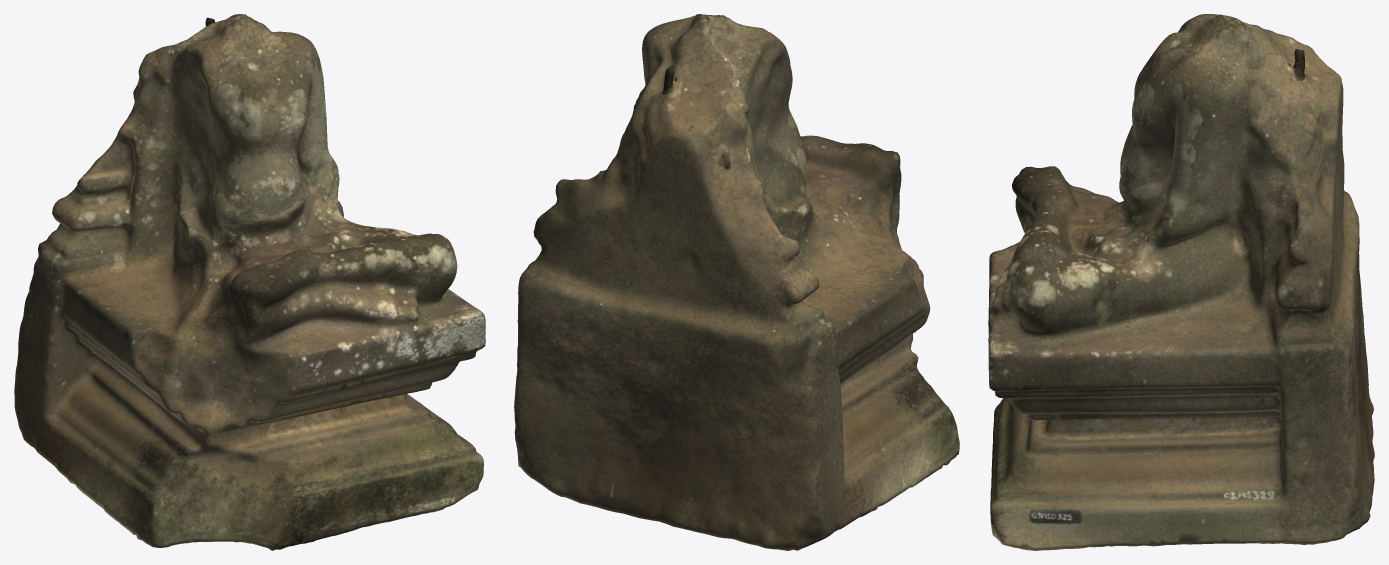
Rendered from 36_MysonSanctuaryD2_ThanKUBERA_final.glb.
3 views of the same model, side by side, from view 1: azimuth 30°, elevation 25°; view 2: azimuth 150°, elevation 25°; view 3: azimuth 270°, elevation 25° (orthographic). The views are drawn at different scales.
Bounding box in the file's own units: 0.3462 × 0.4799 × 0.3603.
Materials: 1 (1 with a texture image).
